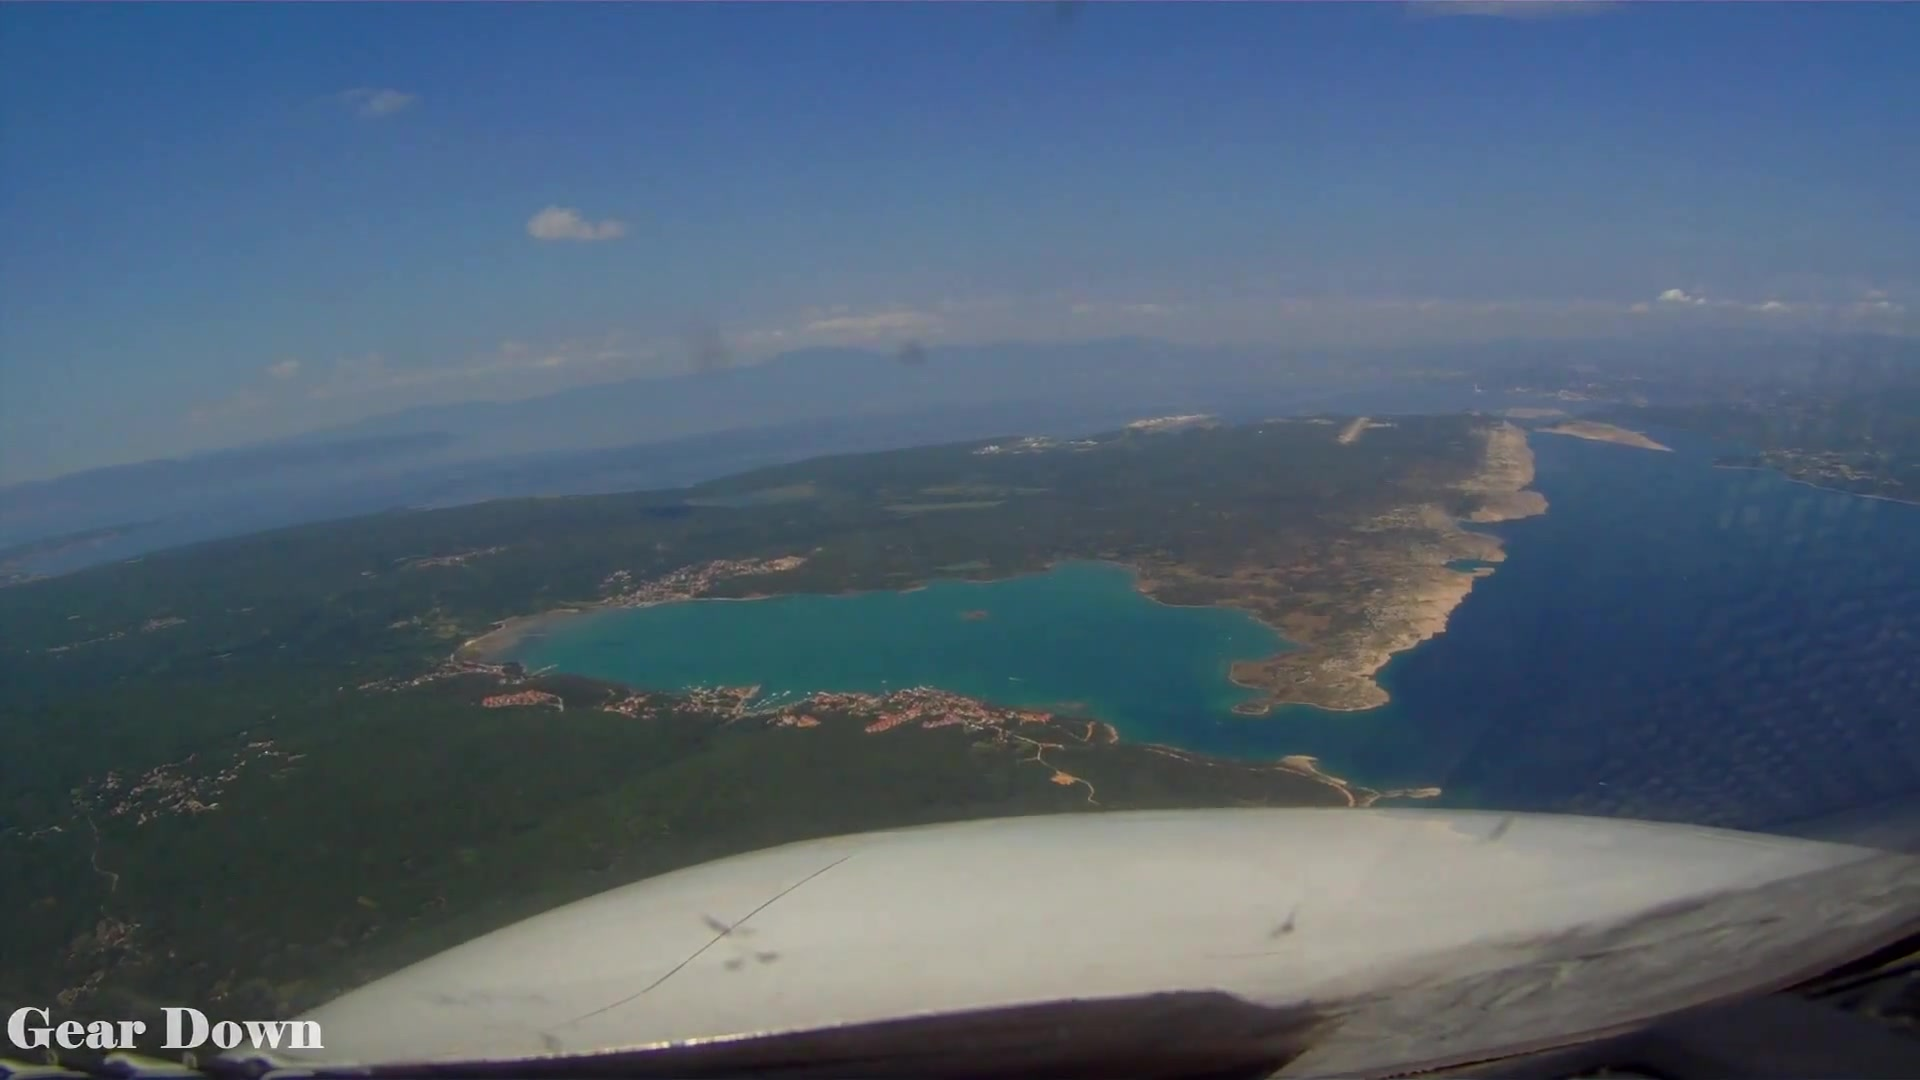runway: (1335, 415, 1371, 444)
